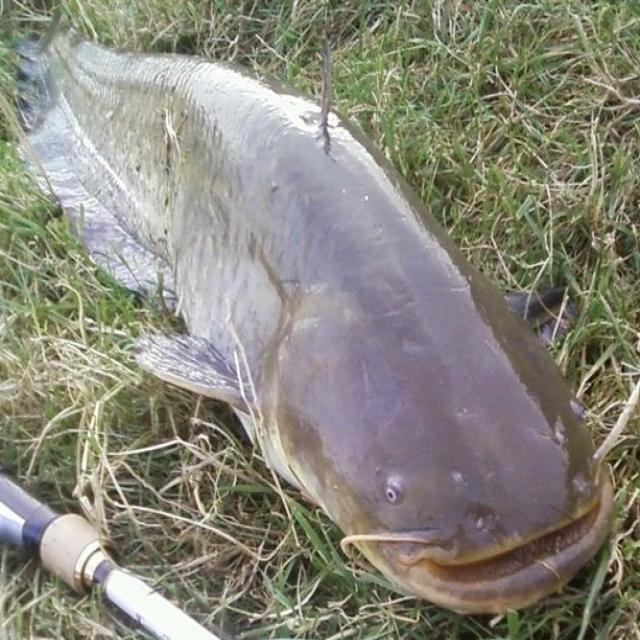Catfish: (5, 8, 637, 615)
